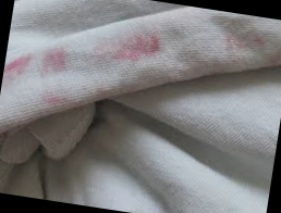lipstick: (93, 34, 162, 65), (225, 35, 276, 57), (37, 47, 68, 76), (4, 50, 32, 78), (37, 94, 79, 112)
